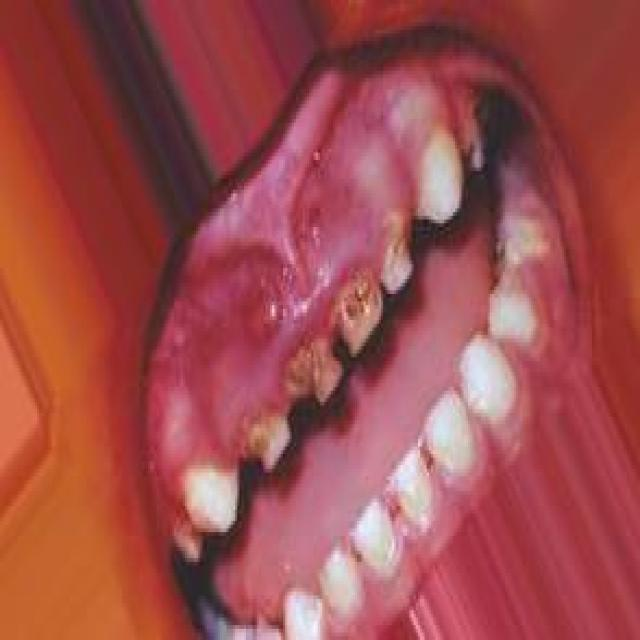caries: (287, 340, 349, 403), (241, 407, 296, 478), (334, 271, 380, 353), (378, 221, 423, 299)
